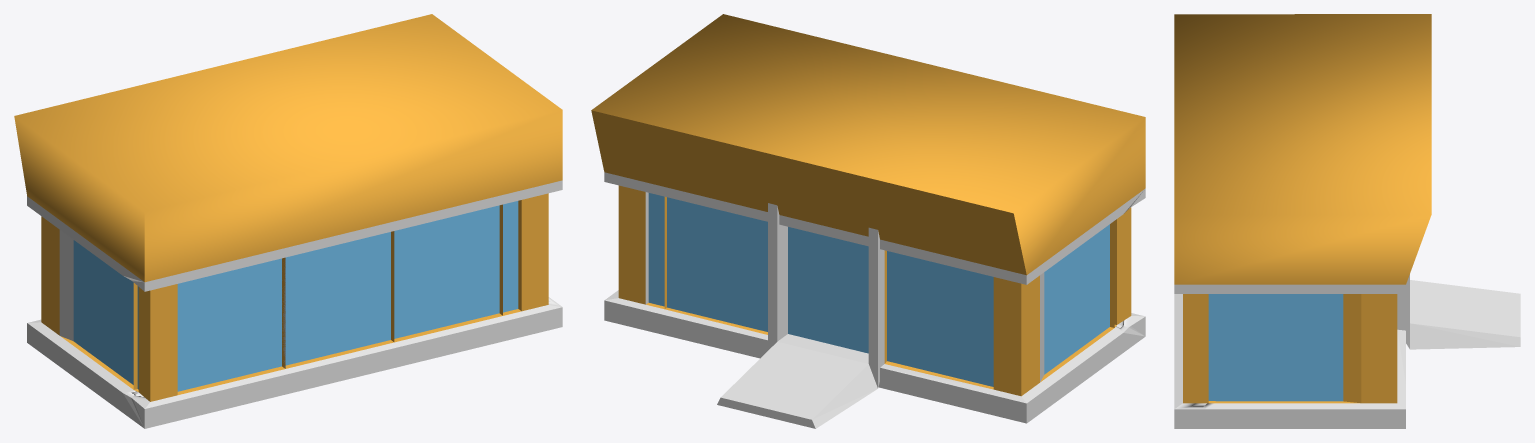
Rendered from Shop4x2x2Orange.fbx.
3 views of the same model, side by side, from view 1: azimuth 30°, elevation 25°; view 2: azimuth 150°, elevation 25°; view 3: azimuth 270°, elevation 25° (orthographic). The views are drawn at different scales.
Parts seen in each view (by area): view 1: Shop.002; view 2: Shop.002; view 3: Shop.002.
Part boxes in pixels (x1=…): Shop.002: x1=14, y1=14, x2=562, y2=428; Shop.002: x1=591, y1=14, x2=1145, y2=428; Shop.002: x1=1174, y1=14, x2=1520, y2=428.
Bounding box in the file's own units: 3.99 × 1.98 × 2.91.
Materials: 1 (1 with a texture image).
